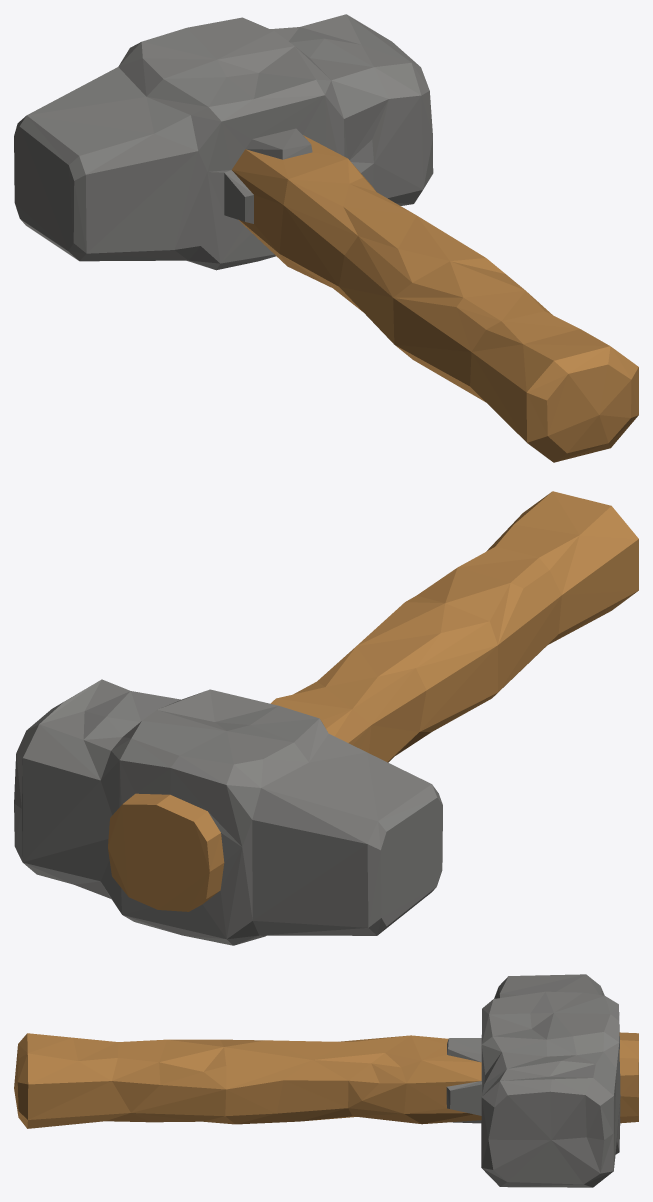
The model's file is BlacksmithHammer02.fbx.
3 renders of one model, top to bottom at view 1: azimuth 30°, elevation 25°; view 2: azimuth 150°, elevation 25°; view 3: azimuth 270°, elevation 25°, orthographic. The views are drawn at different scales.
Parts seen in each view (by area): view 1: BlacksmithHammer02; view 2: BlacksmithHammer02; view 3: BlacksmithHammer02.
Boxes of the visible parts, x1=… form: BlacksmithHammer02: x1=14, y1=14, x2=638, y2=462; BlacksmithHammer02: x1=14, y1=491, x2=638, y2=945; BlacksmithHammer02: x1=14, y1=974, x2=638, y2=1187.
Size of the model in its own units: 0.2024 by 0.4204 by 0.0972.
